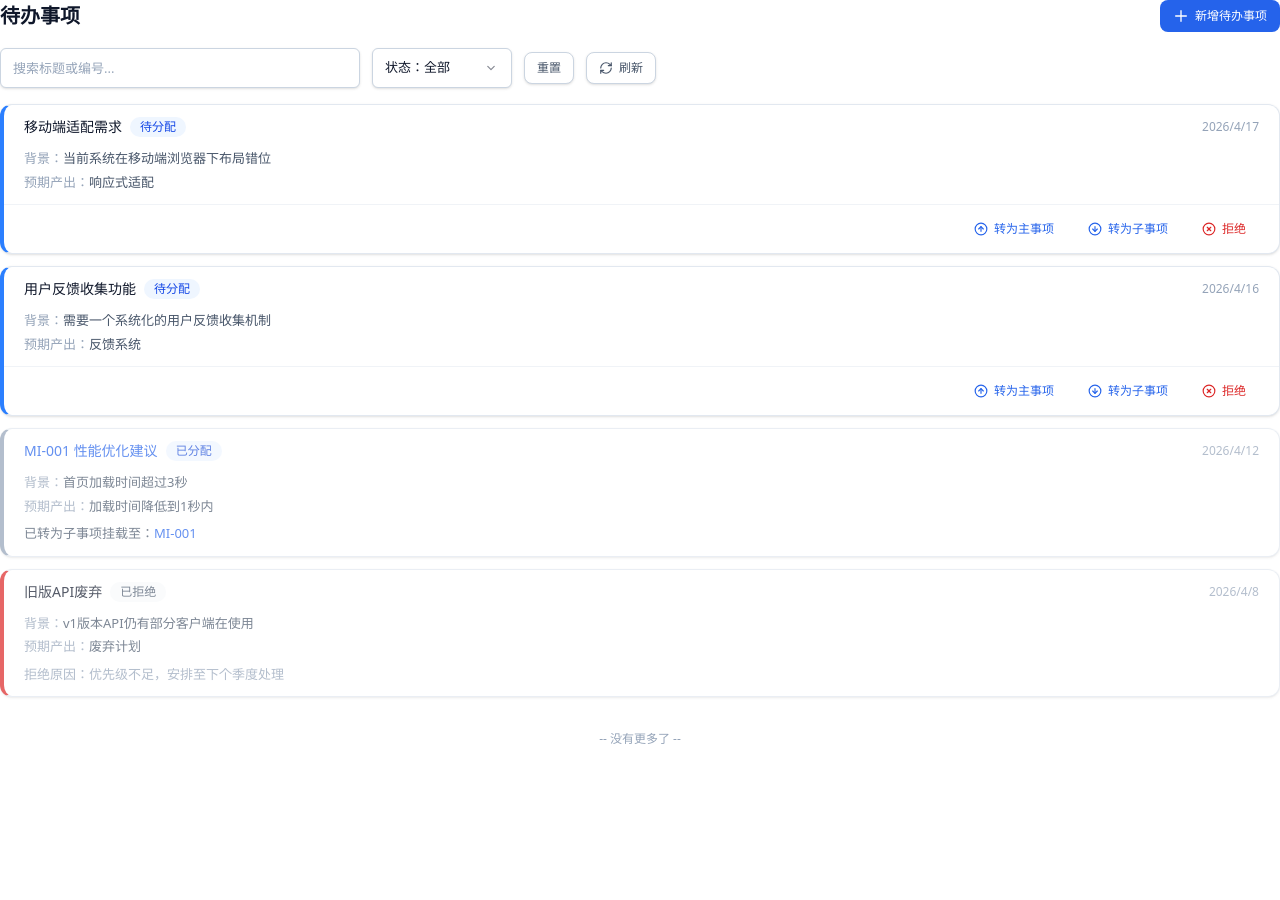
Scenario: ItemPoolPage › disables description textarea in convert-to-sub dialog
This screenshot has width=1280, height=900.
Check: the text "移动端适配需求" is shown, box 24,117 -> 122,137
Click the button with test id "to-sub-1": (1128,229) 1075,213 -> 1181,245
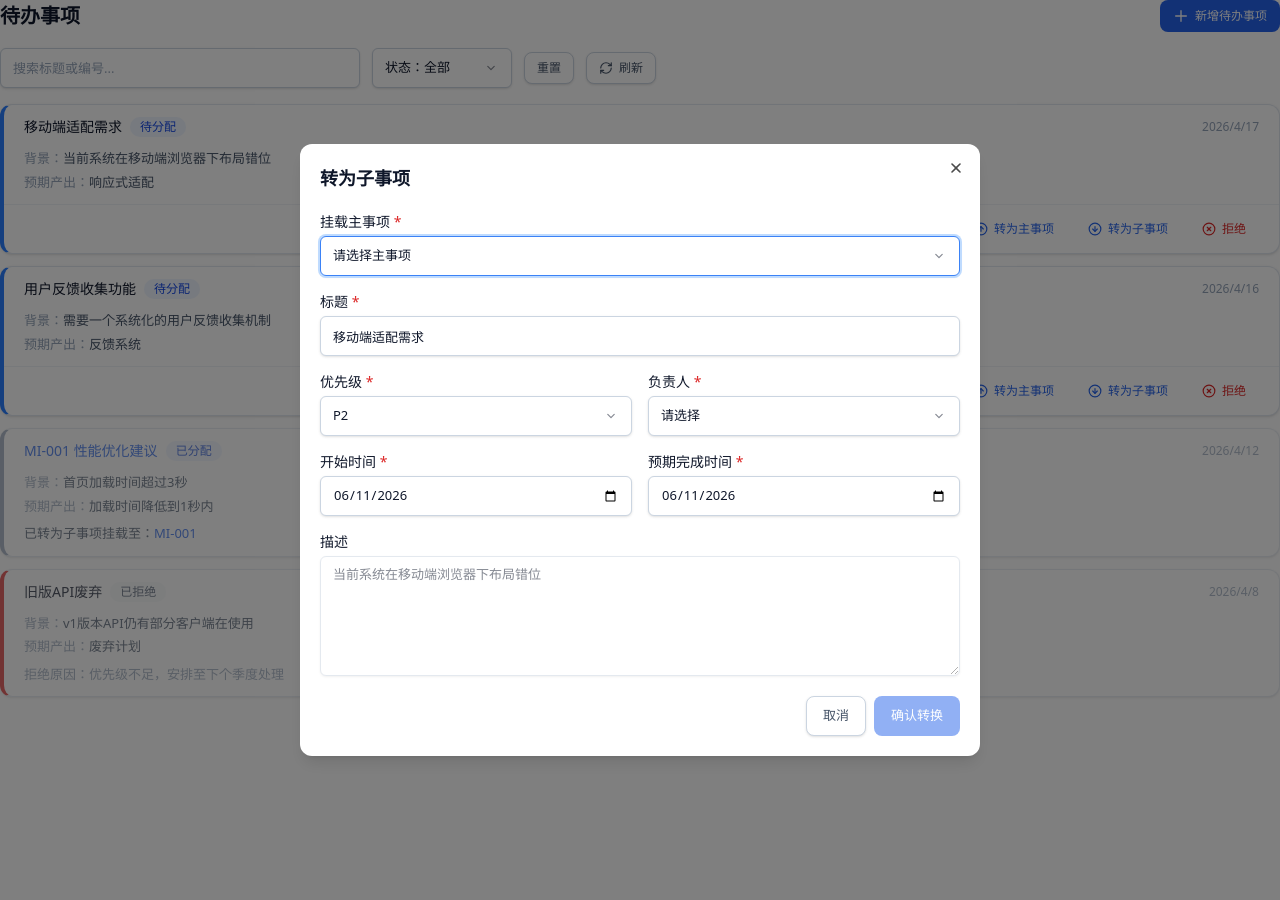
Check: the text box is disabled, box 320,556 -> 960,676
